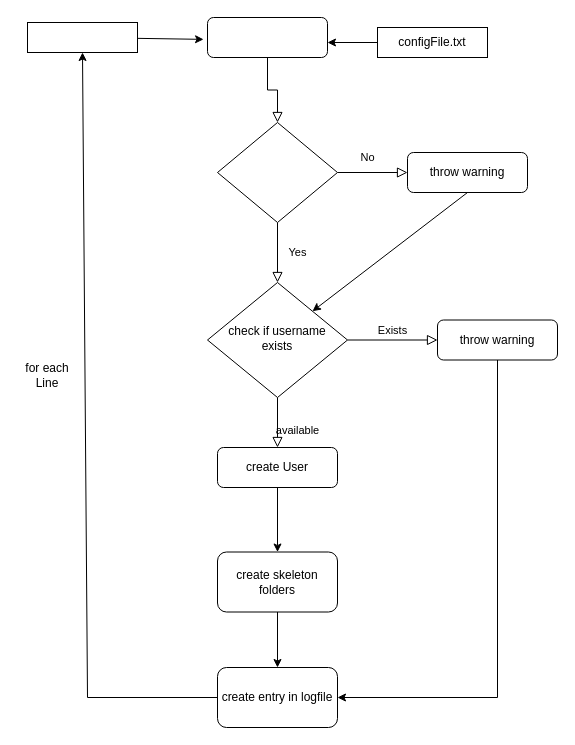
The diagram is 575 pixels wide and 745 high, and some of its shapes have lost their labels. Each missing label, with the centre of its shape:
CreateUser.sh: (x=267, y=37)
inputFile.txt: (x=82, y=37)
usergroup gets backuped: (x=277, y=172)
